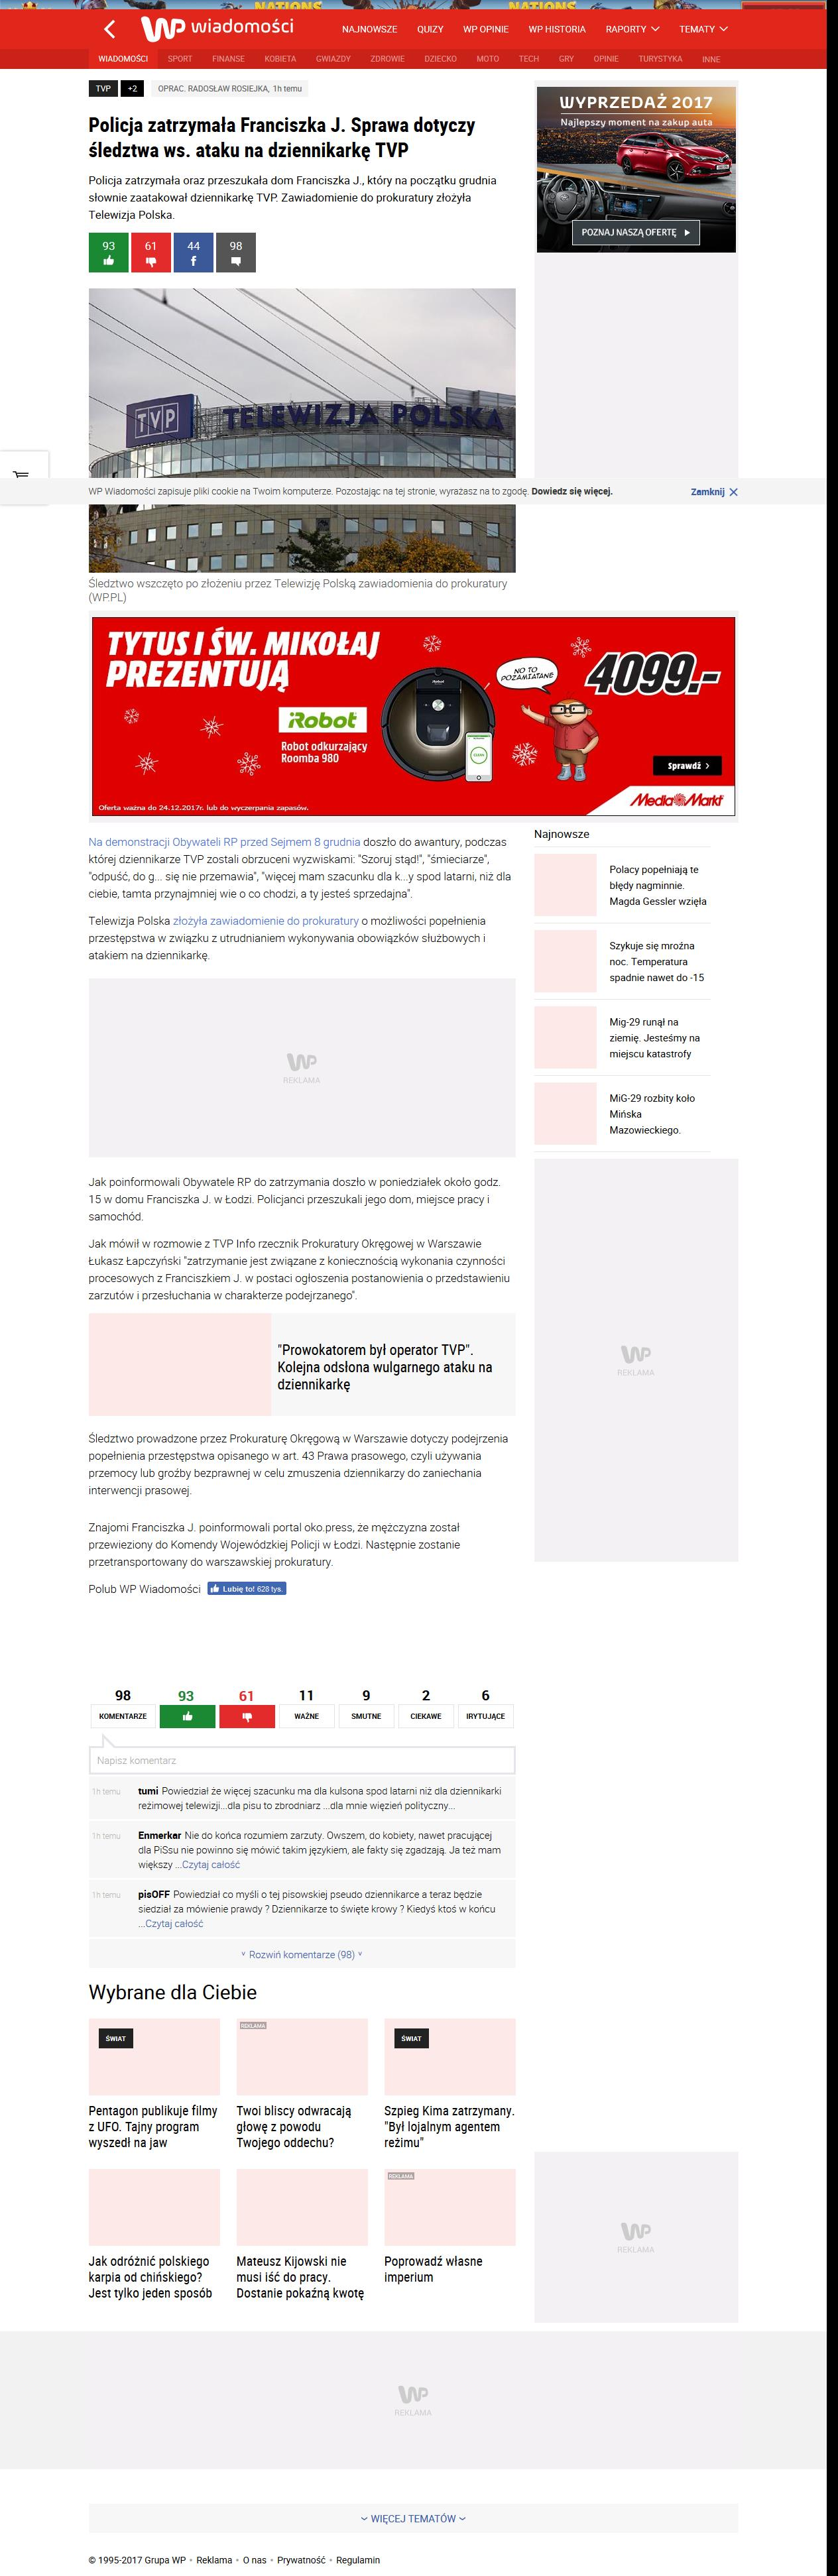title: (87, 117, 477, 161)
